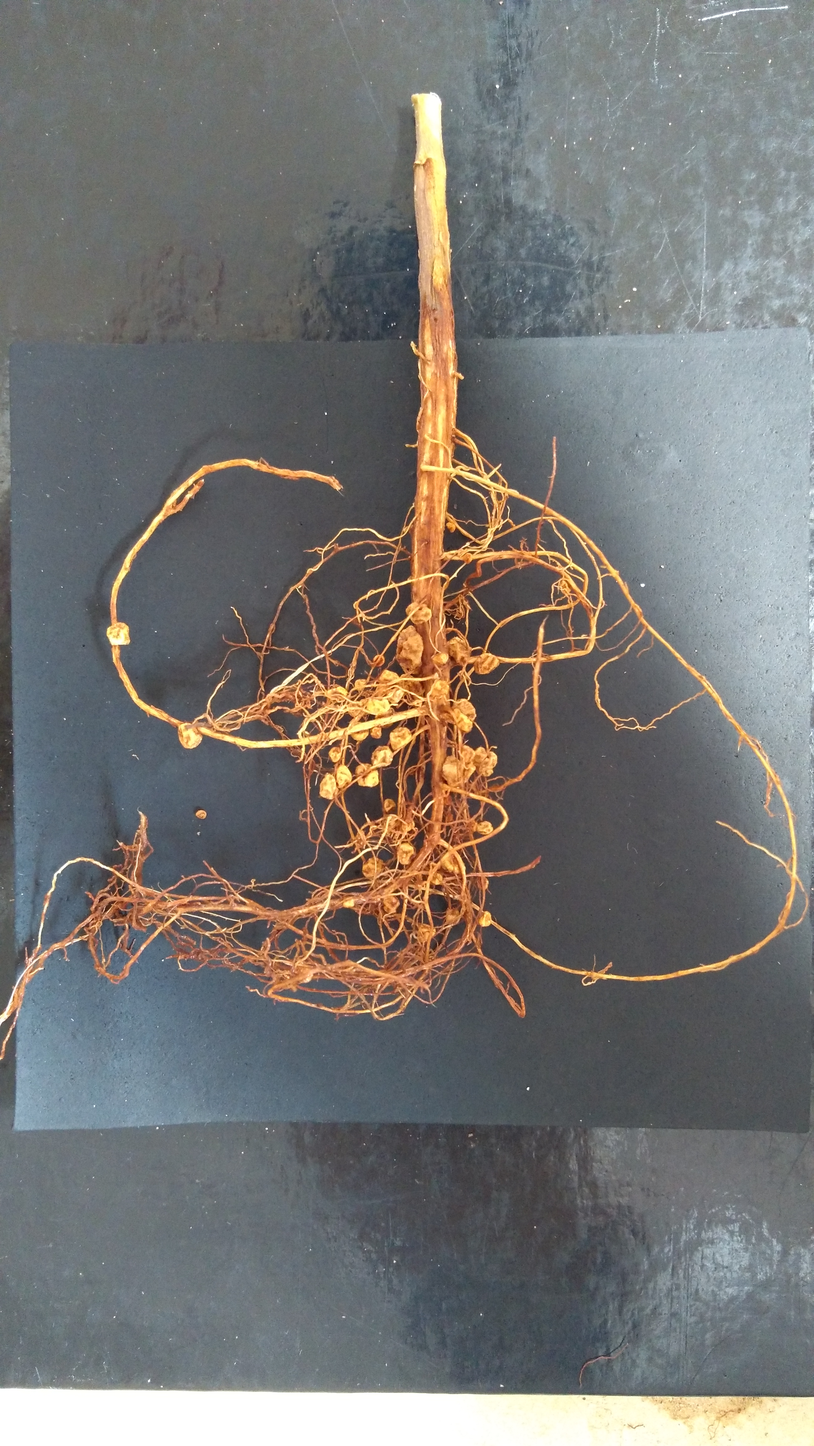nodule: (394, 623, 424, 676), (450, 697, 478, 733), (175, 721, 203, 751), (441, 753, 464, 788), (474, 746, 499, 778), (104, 621, 132, 647), (404, 601, 433, 626), (447, 635, 470, 666), (353, 762, 380, 788), (473, 652, 500, 677), (461, 743, 477, 784), (369, 745, 395, 770), (318, 771, 340, 800), (388, 726, 413, 751), (360, 856, 385, 879), (439, 853, 463, 876), (399, 673, 424, 695), (365, 696, 391, 714), (429, 679, 451, 699), (397, 842, 415, 866), (335, 764, 352, 789), (387, 686, 407, 705), (416, 923, 436, 942), (382, 894, 400, 915), (326, 685, 348, 702), (379, 669, 399, 686), (474, 820, 494, 836), (429, 652, 450, 666), (297, 966, 314, 983), (349, 728, 370, 741), (327, 746, 342, 764), (478, 910, 493, 928), (445, 907, 459, 925), (383, 798, 397, 814), (369, 726, 384, 740), (372, 654, 386, 668), (401, 817, 415, 831), (559, 580, 572, 595), (194, 808, 208, 821), (431, 872, 444, 886), (476, 876, 489, 889), (354, 678, 366, 691), (463, 551, 473, 566), (445, 521, 456, 534), (342, 898, 356, 908)
